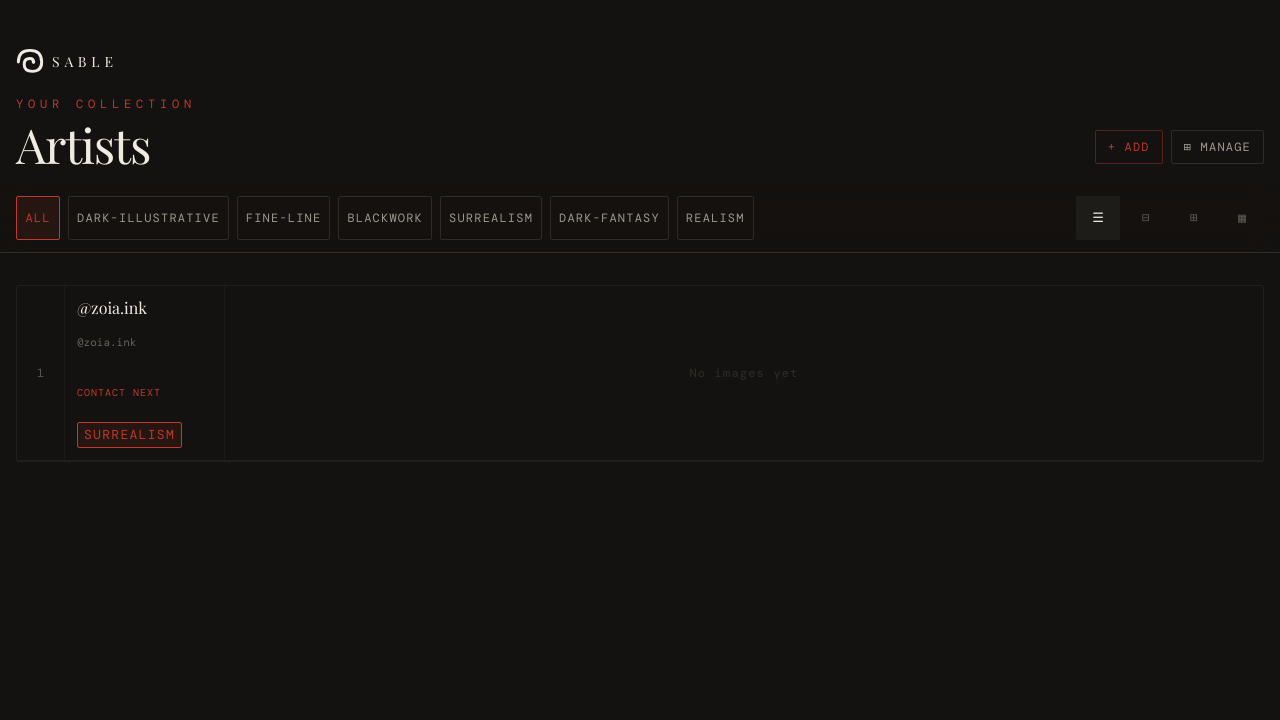
Test case: Artists page: paste anywhere (#46) › does not open a second quick-add when one is already open
Click the button "+ Add" at (1129, 147), box [1095,130,1163,164]
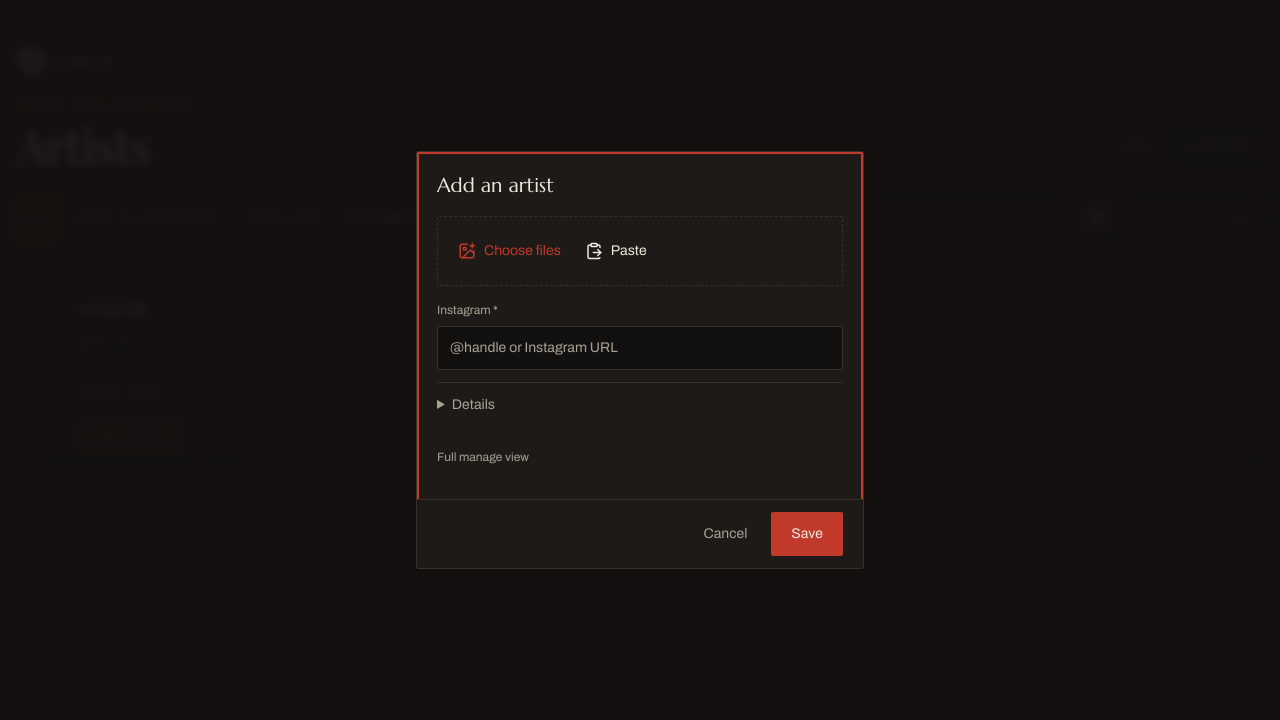
Expected: the heading "Add an artist" is shown, [437,173,554,198]
